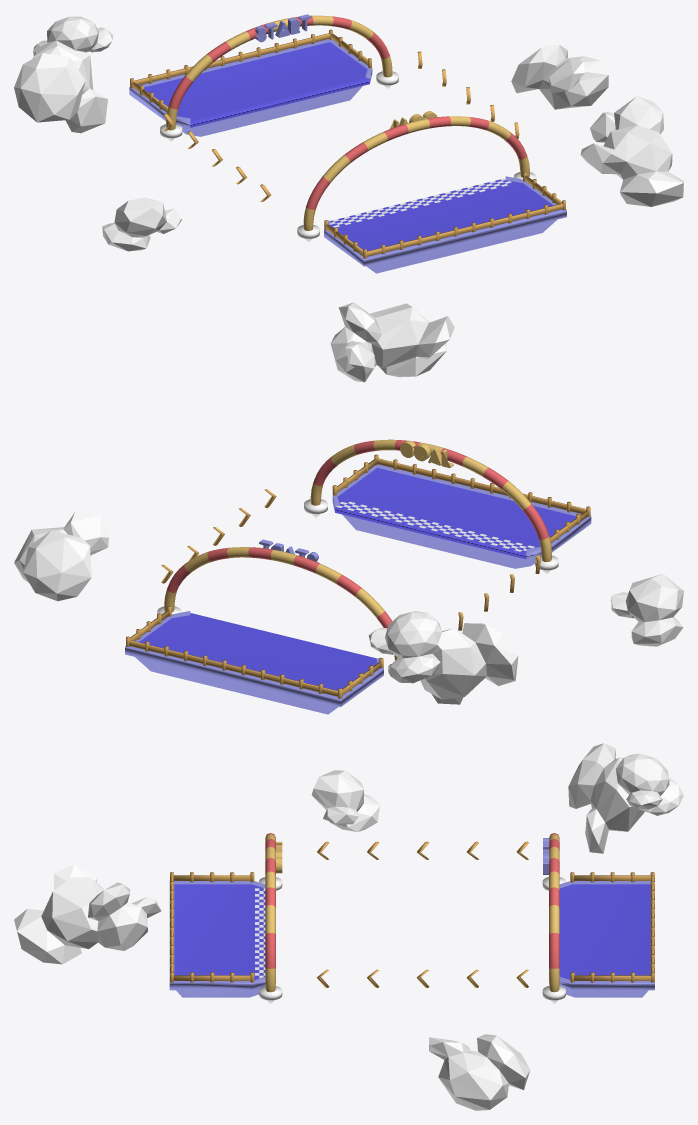
File: Stage_TipToe.fbx
The picture shows the model from 3 angles, top to bottom: view 1: azimuth 30°, elevation 25°; view 2: azimuth 150°, elevation 25°; view 3: azimuth 270°, elevation 25°; orthographic projection. The views are drawn at different scales.
Visible parts, largest first — view 1: StartPlatform, GoalPlatform, Clouds, Clouds.001, Arc, Clouds.003, Clouds.002, GoalFance1, Plane, Fence1, ArcPlatform, Arrows (+5 smaller); view 2: GoalPlatform, StartPlatform, Clouds, Clouds.001, Arc, Clouds.003, Clouds.002, Fence1, Plane, GoalFance1, Arrows, Goal (+3 smaller); view 3: StartPlatform, GoalPlatform, Clouds.001, Clouds, Clouds.003, Arc, Clouds.002, Fence2, GoalFence2, Arrows, ArcPlatform, Plane.
Boxes of the visible parts, bbox=[...] form: StartPlatform: bbox=[129, 39, 372, 136]; GoalPlatform: bbox=[324, 176, 566, 273]; Clouds: bbox=[14, 16, 113, 133]; Clouds.001: bbox=[580, 96, 683, 206]; Arc: bbox=[166, 15, 529, 230]; Clouds.003: bbox=[511, 44, 608, 109]; Clouds.002: bbox=[102, 197, 181, 251]; GoalFance1: bbox=[367, 204, 563, 256]; Plane: bbox=[330, 178, 511, 227]; Fence1: bbox=[134, 33, 330, 85]; ArcPlatform: bbox=[160, 71, 536, 242]; Arrows: bbox=[163, 51, 519, 201]; GoalPlatform: bbox=[332, 464, 591, 568]; StartPlatform: bbox=[125, 611, 383, 714]; Clouds: bbox=[368, 611, 518, 704]; Clouds.001: bbox=[330, 302, 454, 382]; Arc: bbox=[164, 439, 551, 660]; Clouds.003: bbox=[14, 511, 108, 601]; Clouds.002: bbox=[611, 574, 683, 646]; Fence1: bbox=[129, 640, 337, 696]; Plane: bbox=[335, 501, 534, 551]; GoalFance1: bbox=[377, 458, 586, 513]; Arrows: bbox=[161, 489, 540, 630]; Goal: bbox=[400, 440, 453, 468]; StartPlatform: bbox=[559, 881, 654, 997]; GoalPlatform: bbox=[169, 881, 265, 997]; Clouds.001: bbox=[14, 864, 161, 964]; Clouds: bbox=[568, 743, 683, 853]; Clouds.003: bbox=[429, 1034, 530, 1110]; Arc: bbox=[265, 833, 559, 992]; Clouds.002: bbox=[311, 770, 379, 831]; Fence2: bbox=[570, 872, 651, 982]; GoalFence2: bbox=[173, 872, 254, 982]; Arrows: bbox=[317, 841, 528, 987]; ArcPlatform: bbox=[259, 877, 565, 1003]; Plane: bbox=[255, 888, 265, 978].
Bounding box in the file's own units: 109287 × 30685 × 110534.
7 materials, 1 textured.
